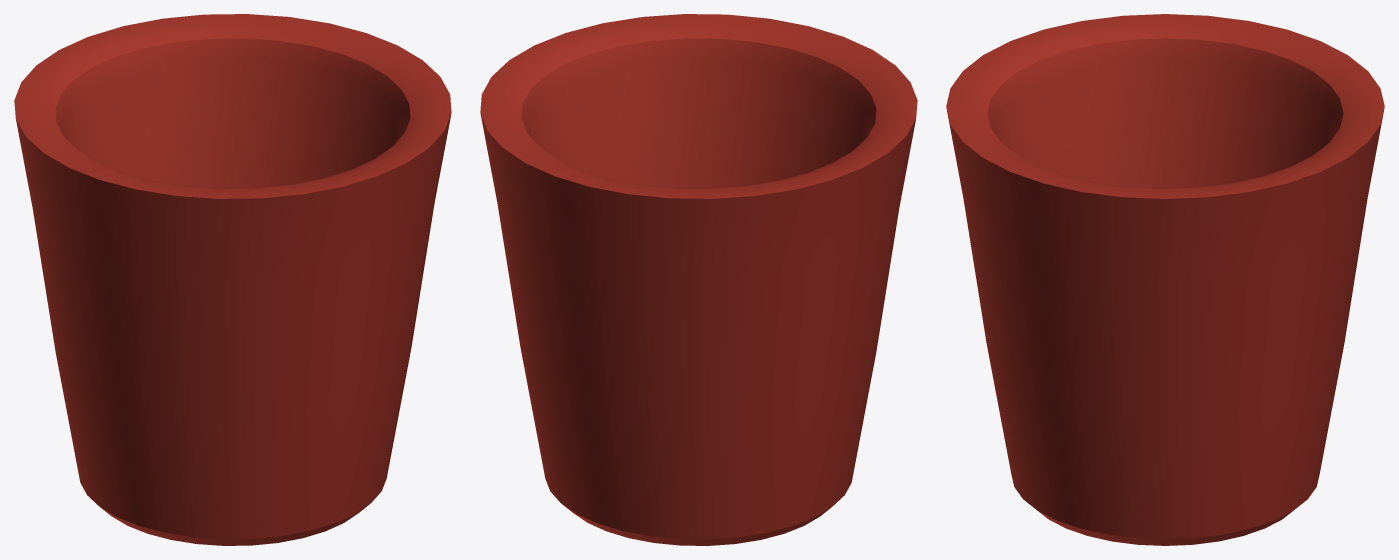
File: Copo.fbx
3 renders of one model, left to right at view 1: azimuth 30°, elevation 25°; view 2: azimuth 150°, elevation 25°; view 3: azimuth 270°, elevation 25°, orthographic.
Parts seen in each view (by area): view 1: Copo; view 2: Copo; view 3: Copo.
Boxes of the visible parts, x1,y1,x2,y2 form: Copo: (14,14,451,545); Copo: (480,14,917,545); Copo: (946,14,1384,545).
Size of the model in its own units: 313 by 300 by 314.
Materials: 1 (1 with a texture image).
